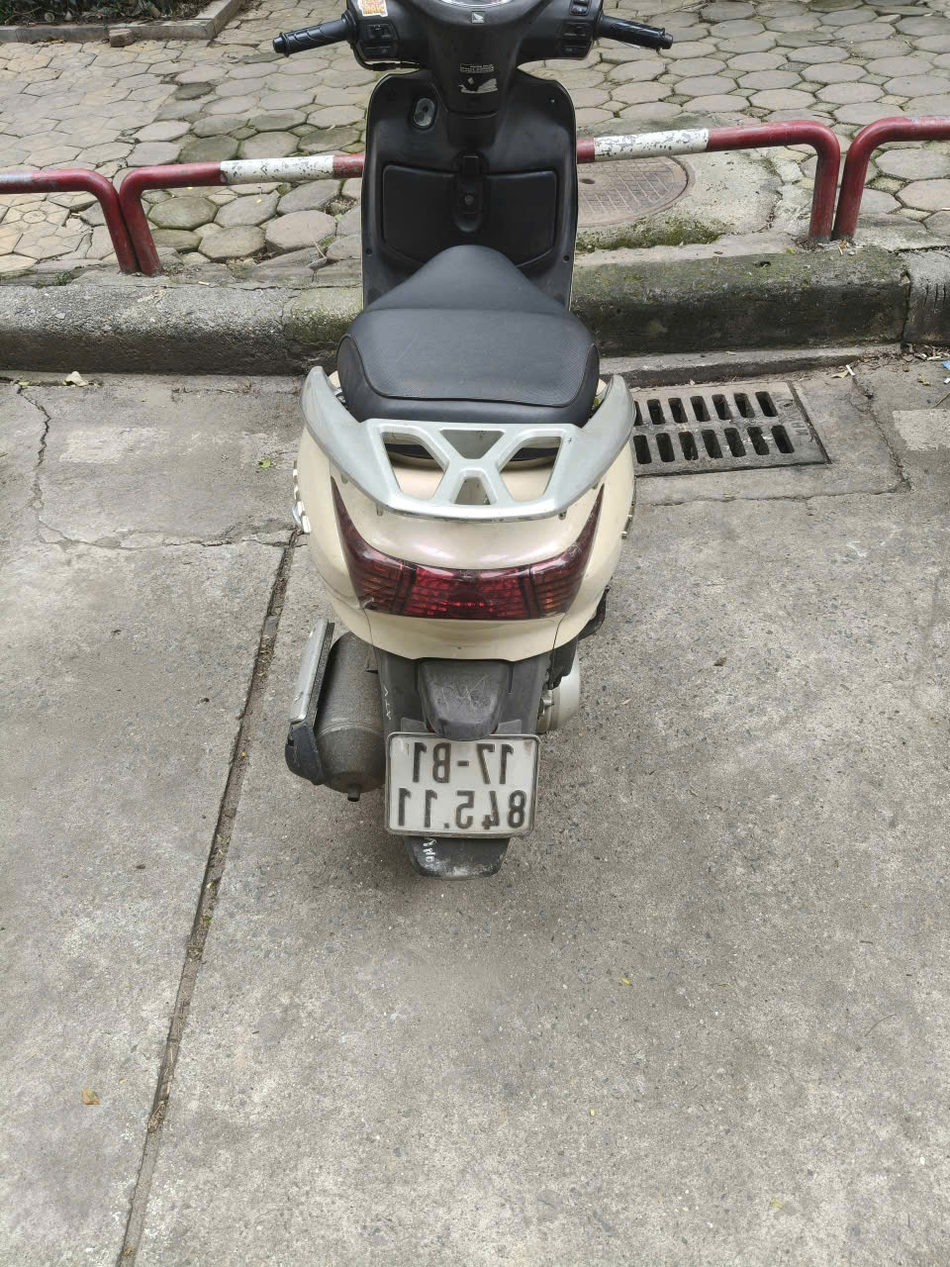plate: (572, 100, 685, 144)
